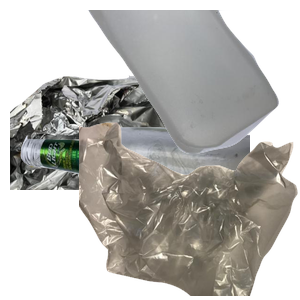glass: (18, 124, 258, 300)
metal: (10, 73, 212, 253)
plastic: (84, 10, 300, 157)
trash: (79, 120, 300, 300)
